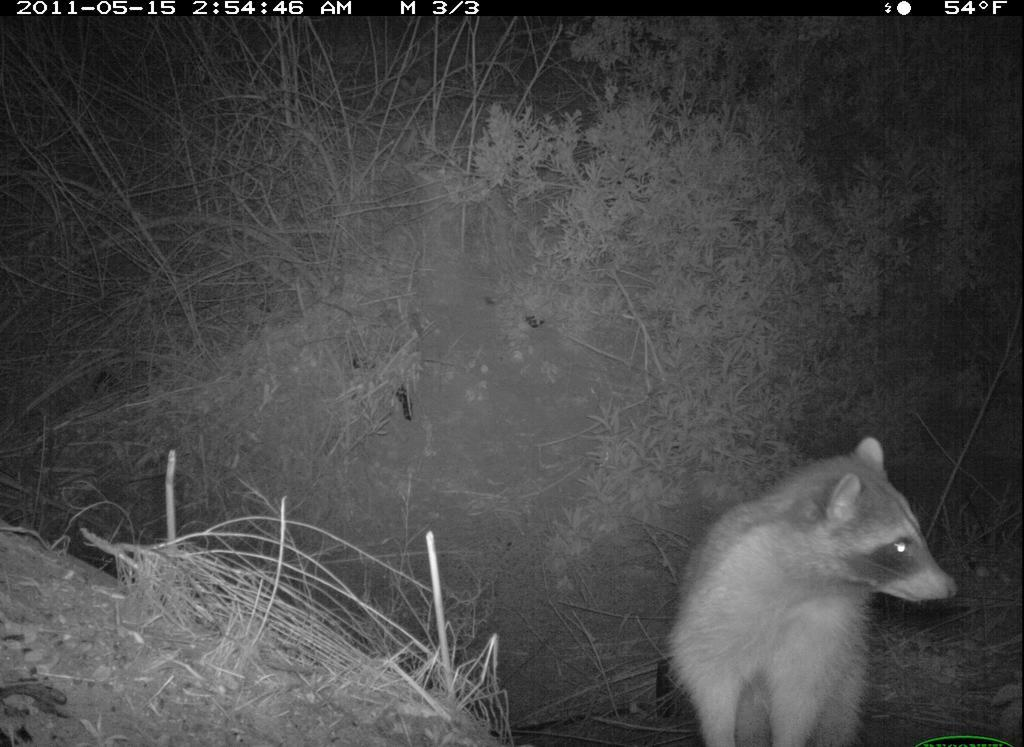raccoon: (653, 432, 966, 747)
